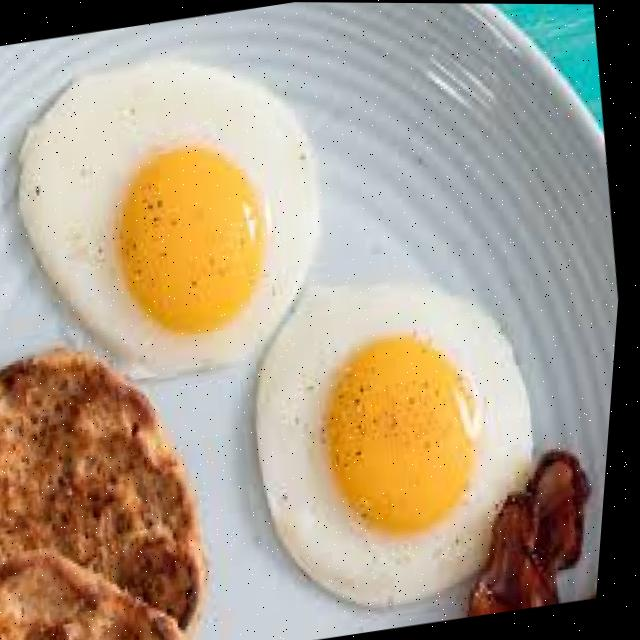Bacon: (478, 449, 598, 610)
Bread: (0, 352, 214, 640)
